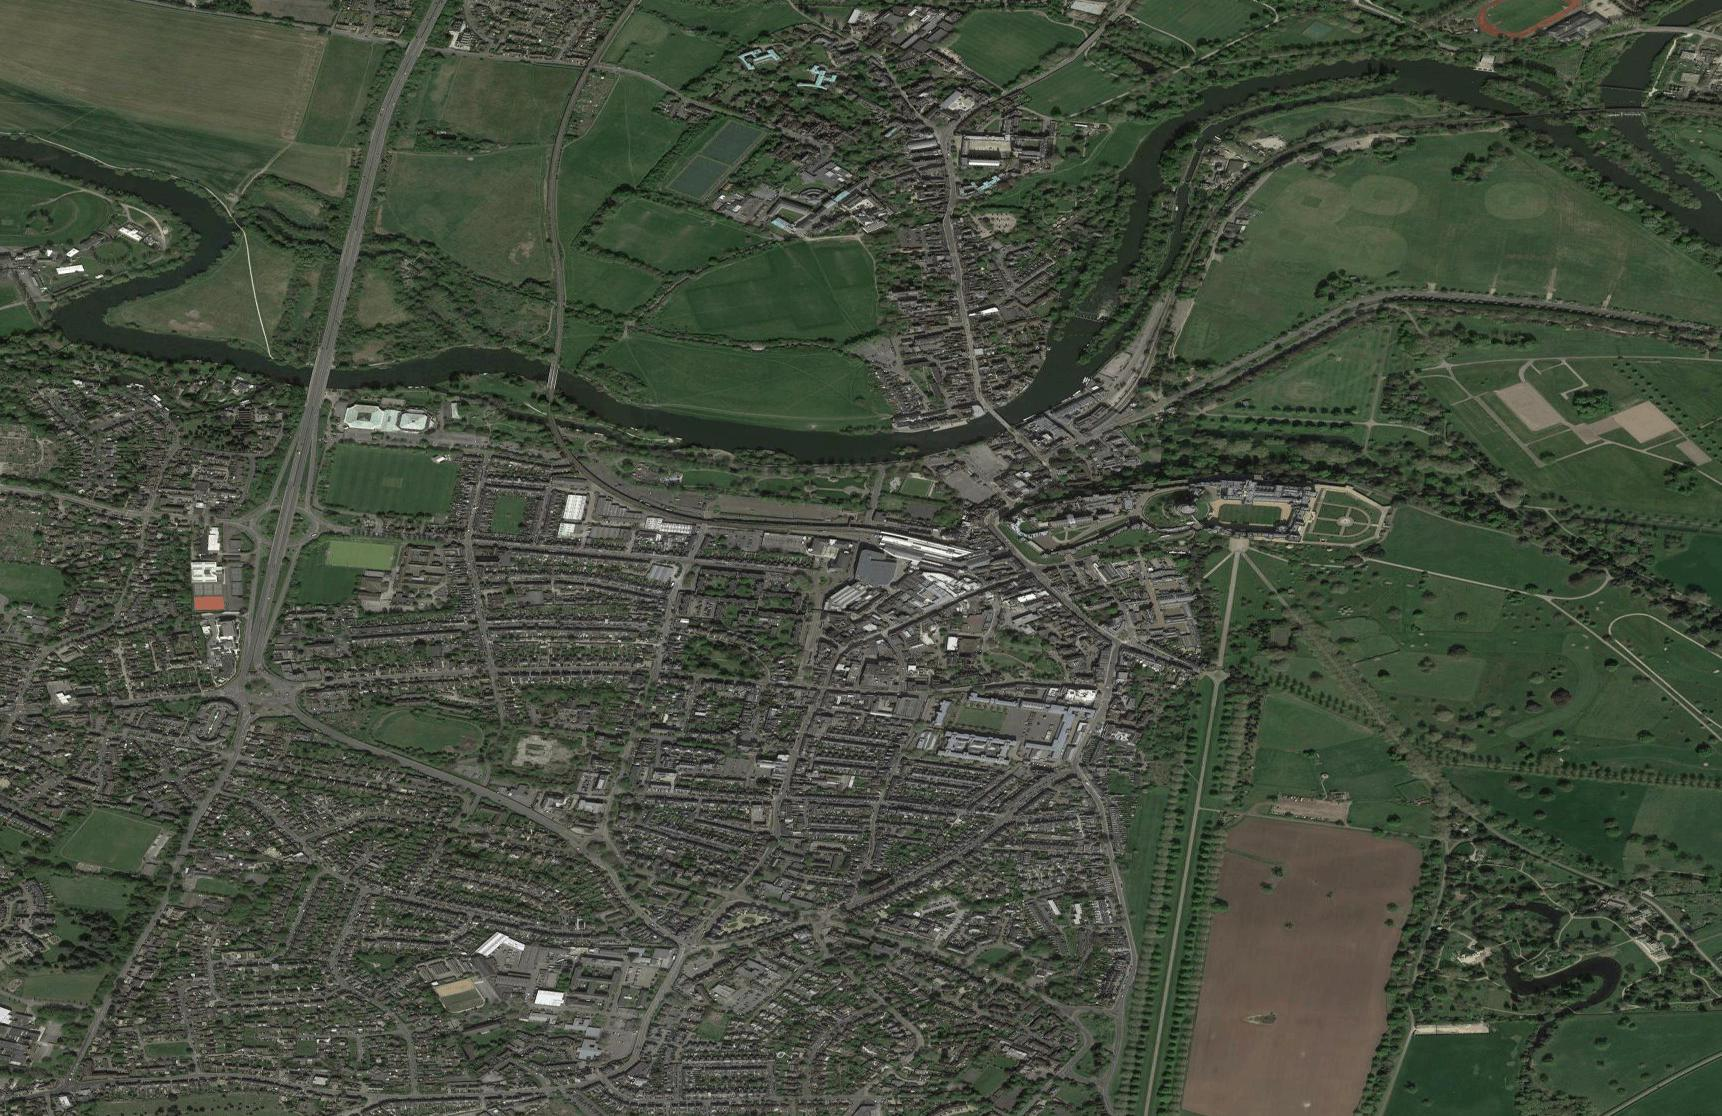bridge: (309, 359, 333, 390), (542, 362, 567, 389), (987, 405, 1012, 432)
industrial: (559, 486, 668, 540)
motorway: (358, 1, 442, 200), (243, 518, 296, 674), (285, 360, 338, 516), (318, 198, 369, 354)
train_station: (852, 501, 987, 593)
